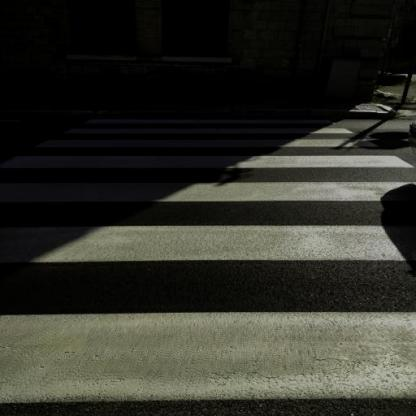crosswalk: (0, 178, 416, 276), (32, 125, 384, 153)
